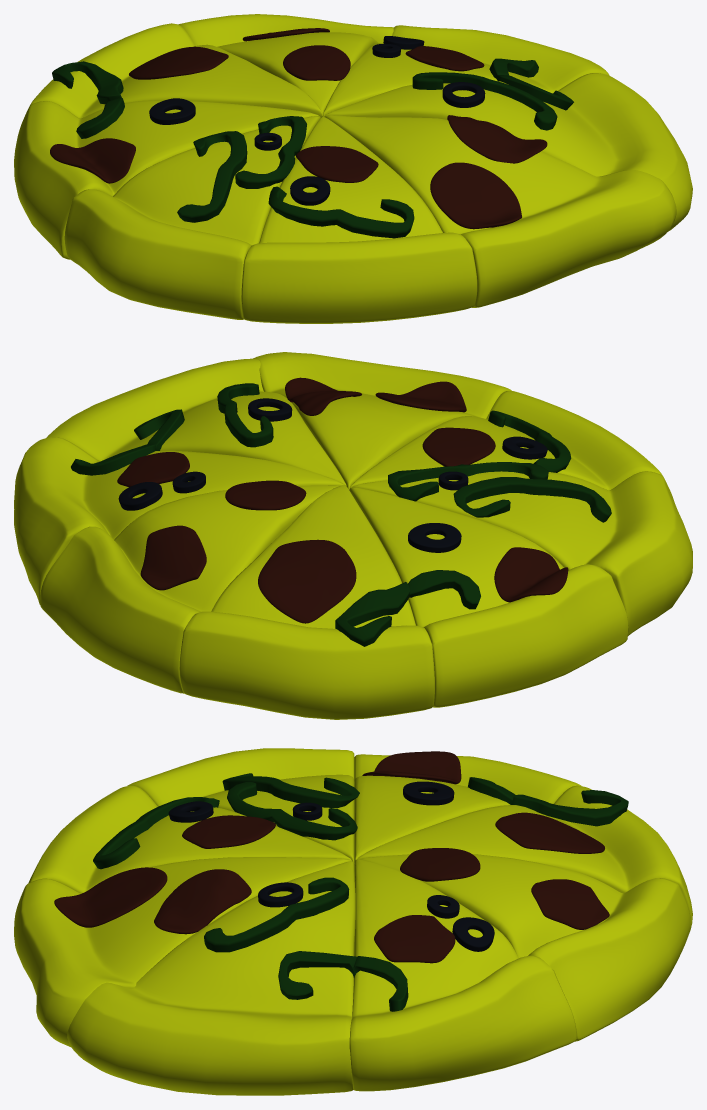
File: Pizza.fbx
The picture shows the model from 3 angles, top to bottom: view 1: azimuth 30°, elevation 25°; view 2: azimuth 150°, elevation 25°; view 3: azimuth 270°, elevation 25°; orthographic projection. The views are drawn at different scales.
Parts seen in each view (by area): view 1: slice_01, slice_02, slice_03, slice_07, slice_04, slice_05, slice_06, slice_08; view 2: slice_05, slice_04, slice_08, slice_03, slice_06, slice_07, slice_01, slice_02; view 3: slice_07, slice_06, slice_08, slice_01, slice_05, slice_02, slice_03, slice_04.
Part boxes in pixels (x1,y1,x2,y2): slice_01: (324, 115, 676, 307); slice_02: (241, 116, 477, 323); slice_03: (64, 116, 320, 319); slice_07: (325, 72, 692, 231); slice_04: (14, 98, 318, 259); slice_05: (25, 23, 322, 118); slice_06: (322, 25, 609, 116); slice_08: (178, 14, 393, 116); slice_05: (179, 485, 434, 719); slice_04: (349, 487, 628, 707); slice_08: (40, 480, 338, 693); slice_03: (352, 462, 692, 636); slice_06: (14, 437, 344, 604); slice_07: (46, 358, 346, 485); slice_01: (253, 352, 511, 489); slice_02: (349, 391, 662, 490); slice_07: (67, 861, 356, 1095); slice_06: (349, 859, 576, 1091); slice_08: (360, 848, 690, 1041); slice_01: (14, 857, 350, 1046); slice_05: (357, 785, 692, 932); slice_02: (28, 785, 351, 893); slice_03: (127, 748, 359, 863); slice_04: (354, 751, 581, 866).
Bounding box in the file's own units: 4.19 × 0.8589 × 4.07.
